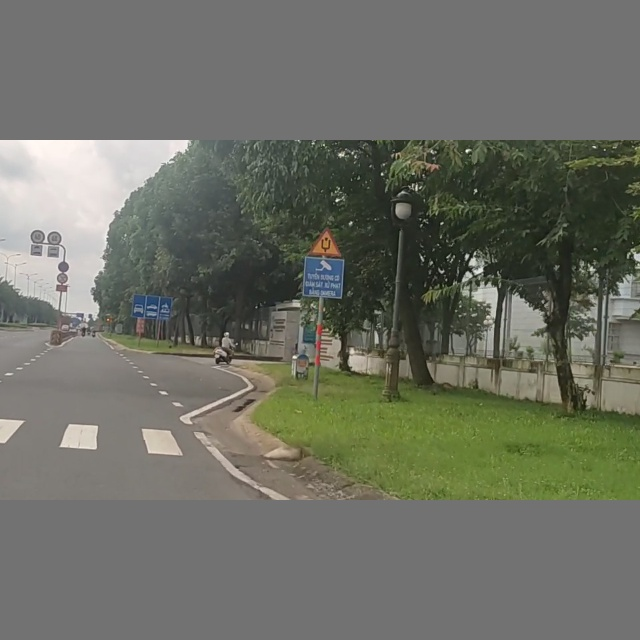P.127*40: (29, 229, 46, 243)
P.127*60: (47, 230, 62, 245)
R.415a: (130, 294, 173, 320)
W.246a: (308, 227, 342, 257)
